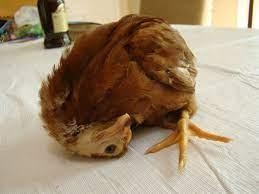AbNormal: (32, 13, 229, 170)
